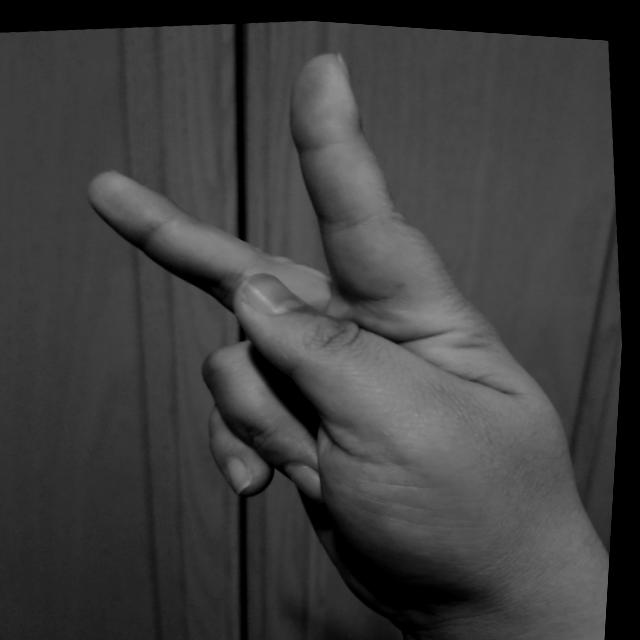K: (43, 3, 636, 639)
